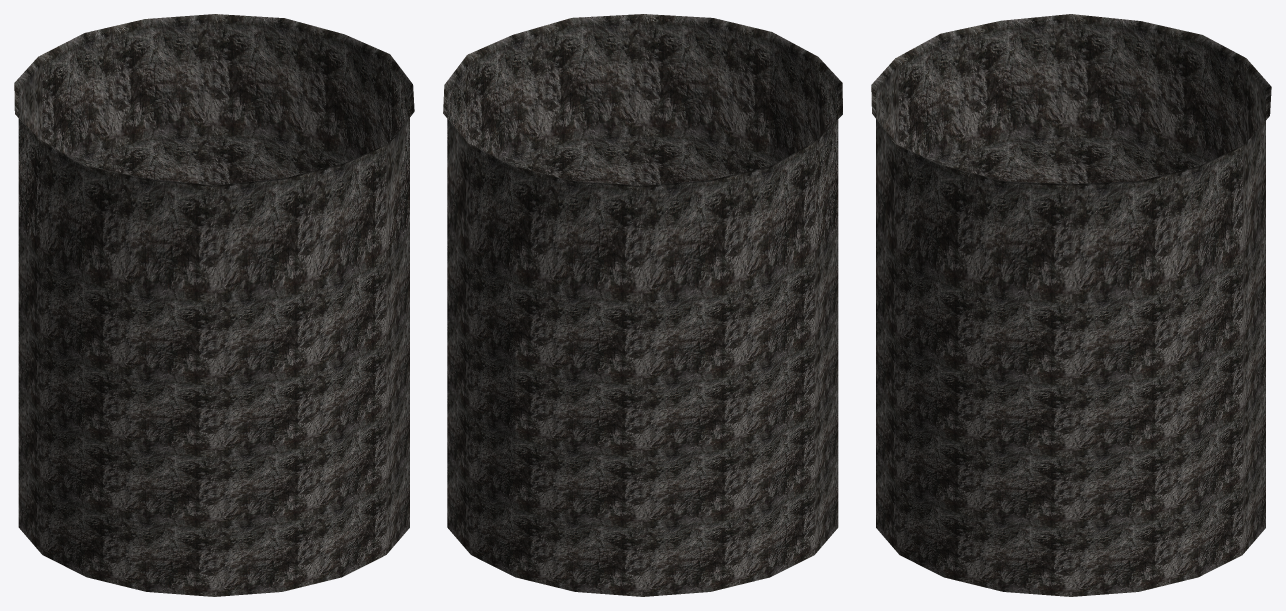
The model's file is wall.obj.
3 views of the same model, side by side, from view 1: azimuth 30°, elevation 25°; view 2: azimuth 150°, elevation 25°; view 3: azimuth 270°, elevation 25° (orthographic).
Parts seen in each view (by area): view 1: wall; view 2: wall; view 3: wall.
Part boxes in pixels (x1=…): wall: x1=14, y1=14, x2=414, y2=596; wall: x1=443, y1=14, x2=842, y2=596; wall: x1=871, y1=14, x2=1271, y2=596.
Bounding box in the file's own units: 1017 × 1155 × 1011.
